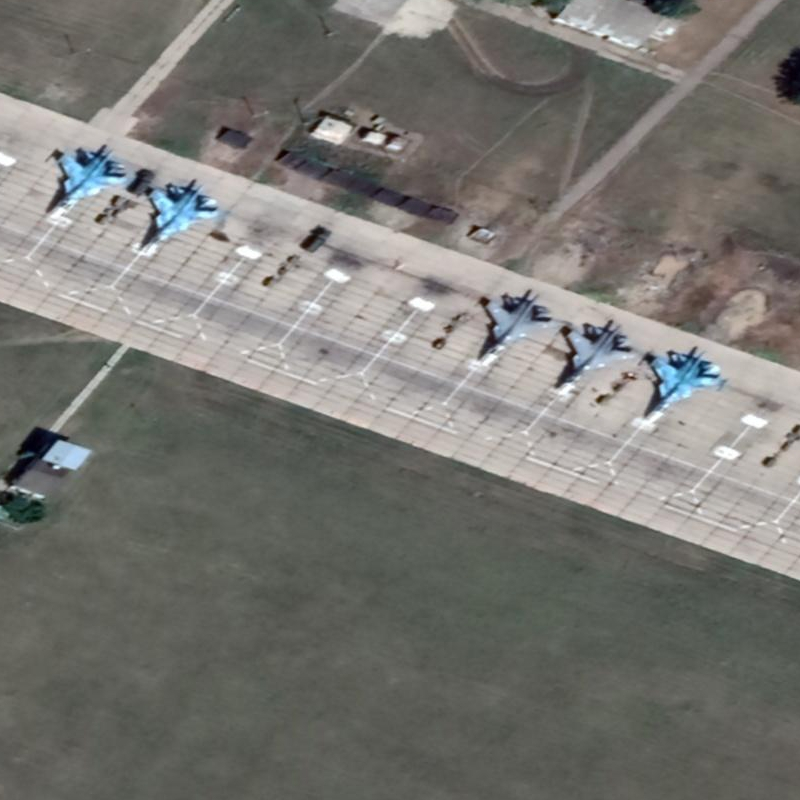A19: (641, 348, 733, 427), (555, 322, 644, 399), (143, 182, 231, 259), (48, 145, 136, 222), (480, 292, 562, 368)
